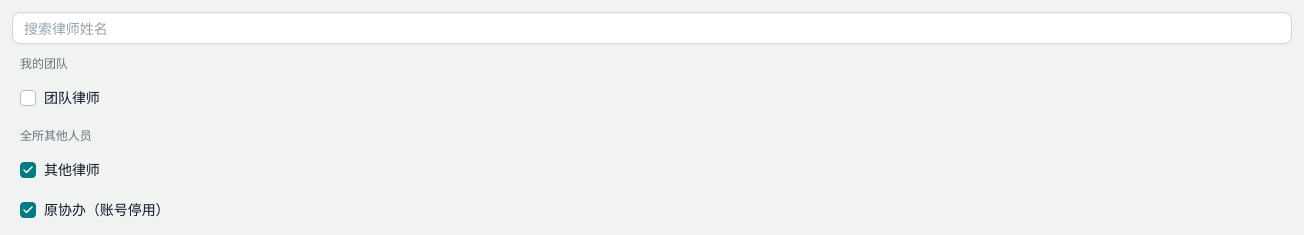
Test: 协办选择交互 › 搜索不丢失已选协办，停用的原协办可移出且不能重新新增
Expected: the checkbox named "其他律师" next to "其他律师" is checked, [20,162,36,178]
Type "团队" into the field labelled "搜索律师姓名" at (652, 28), box [12,12,1292,44]
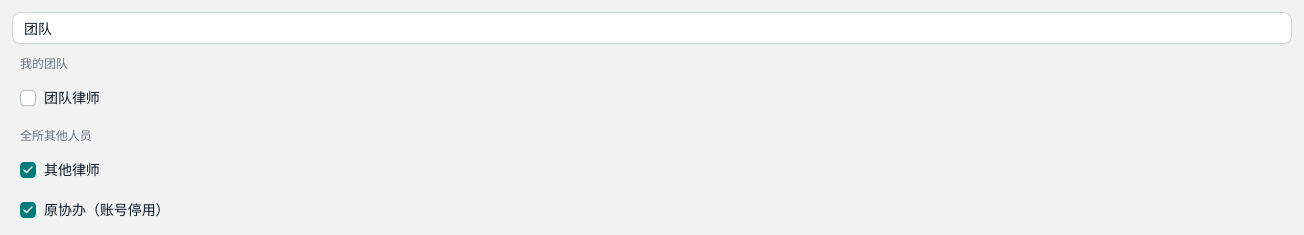
Expected: the checkbox named "其他律师" next to "其他律师" is checked, [20,162,36,178]
Click the checkbox named "团队律师" next to "团队律师" at (28, 98), box [20,90,36,106]
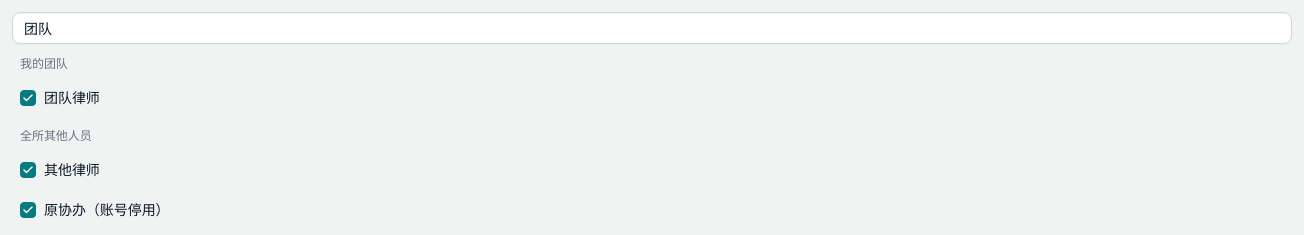
Expected: the checkbox named "团队律师" next to "团队律师" is checked, [20,90,36,106]
Click the checkbox named "原协办（账号停用）" next to "原协办" at (28, 210), box [20,202,36,218]
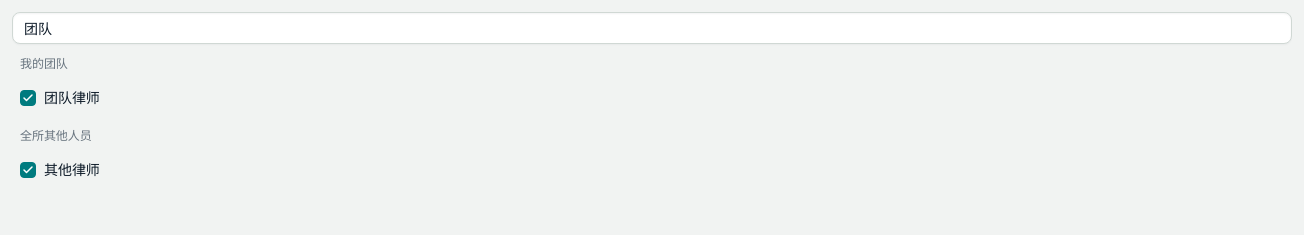
Expected: the text "原协办（账号停用）" is gone
